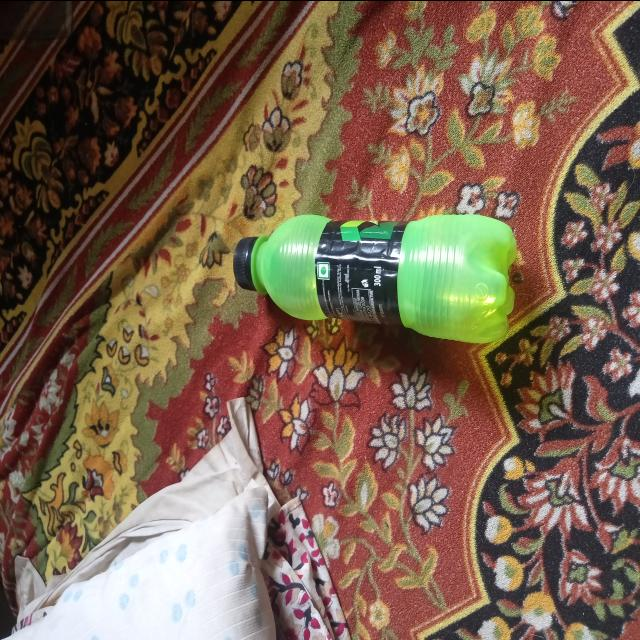寶特瓶: (230, 202, 522, 346)
